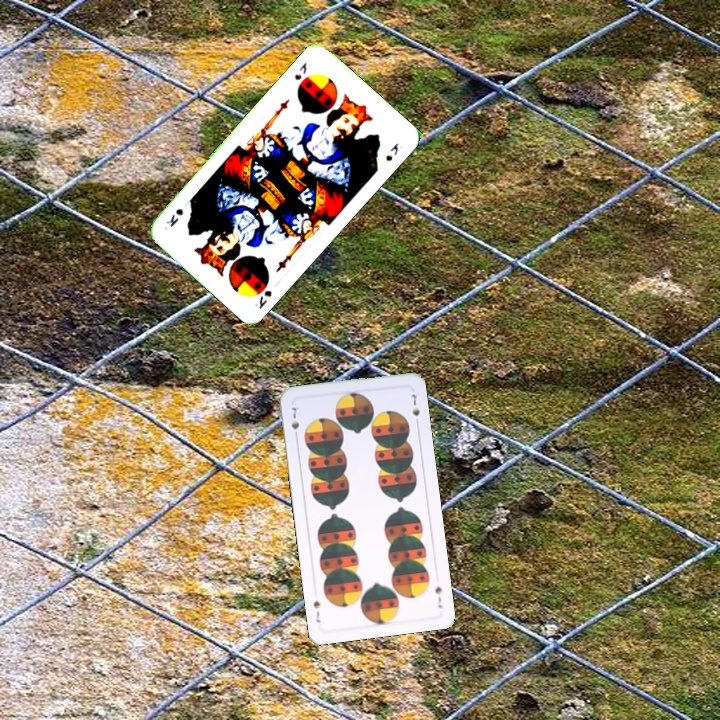S7: (287, 403, 302, 441), (431, 582, 445, 611)
SK: (250, 286, 275, 312), (290, 58, 310, 83)
